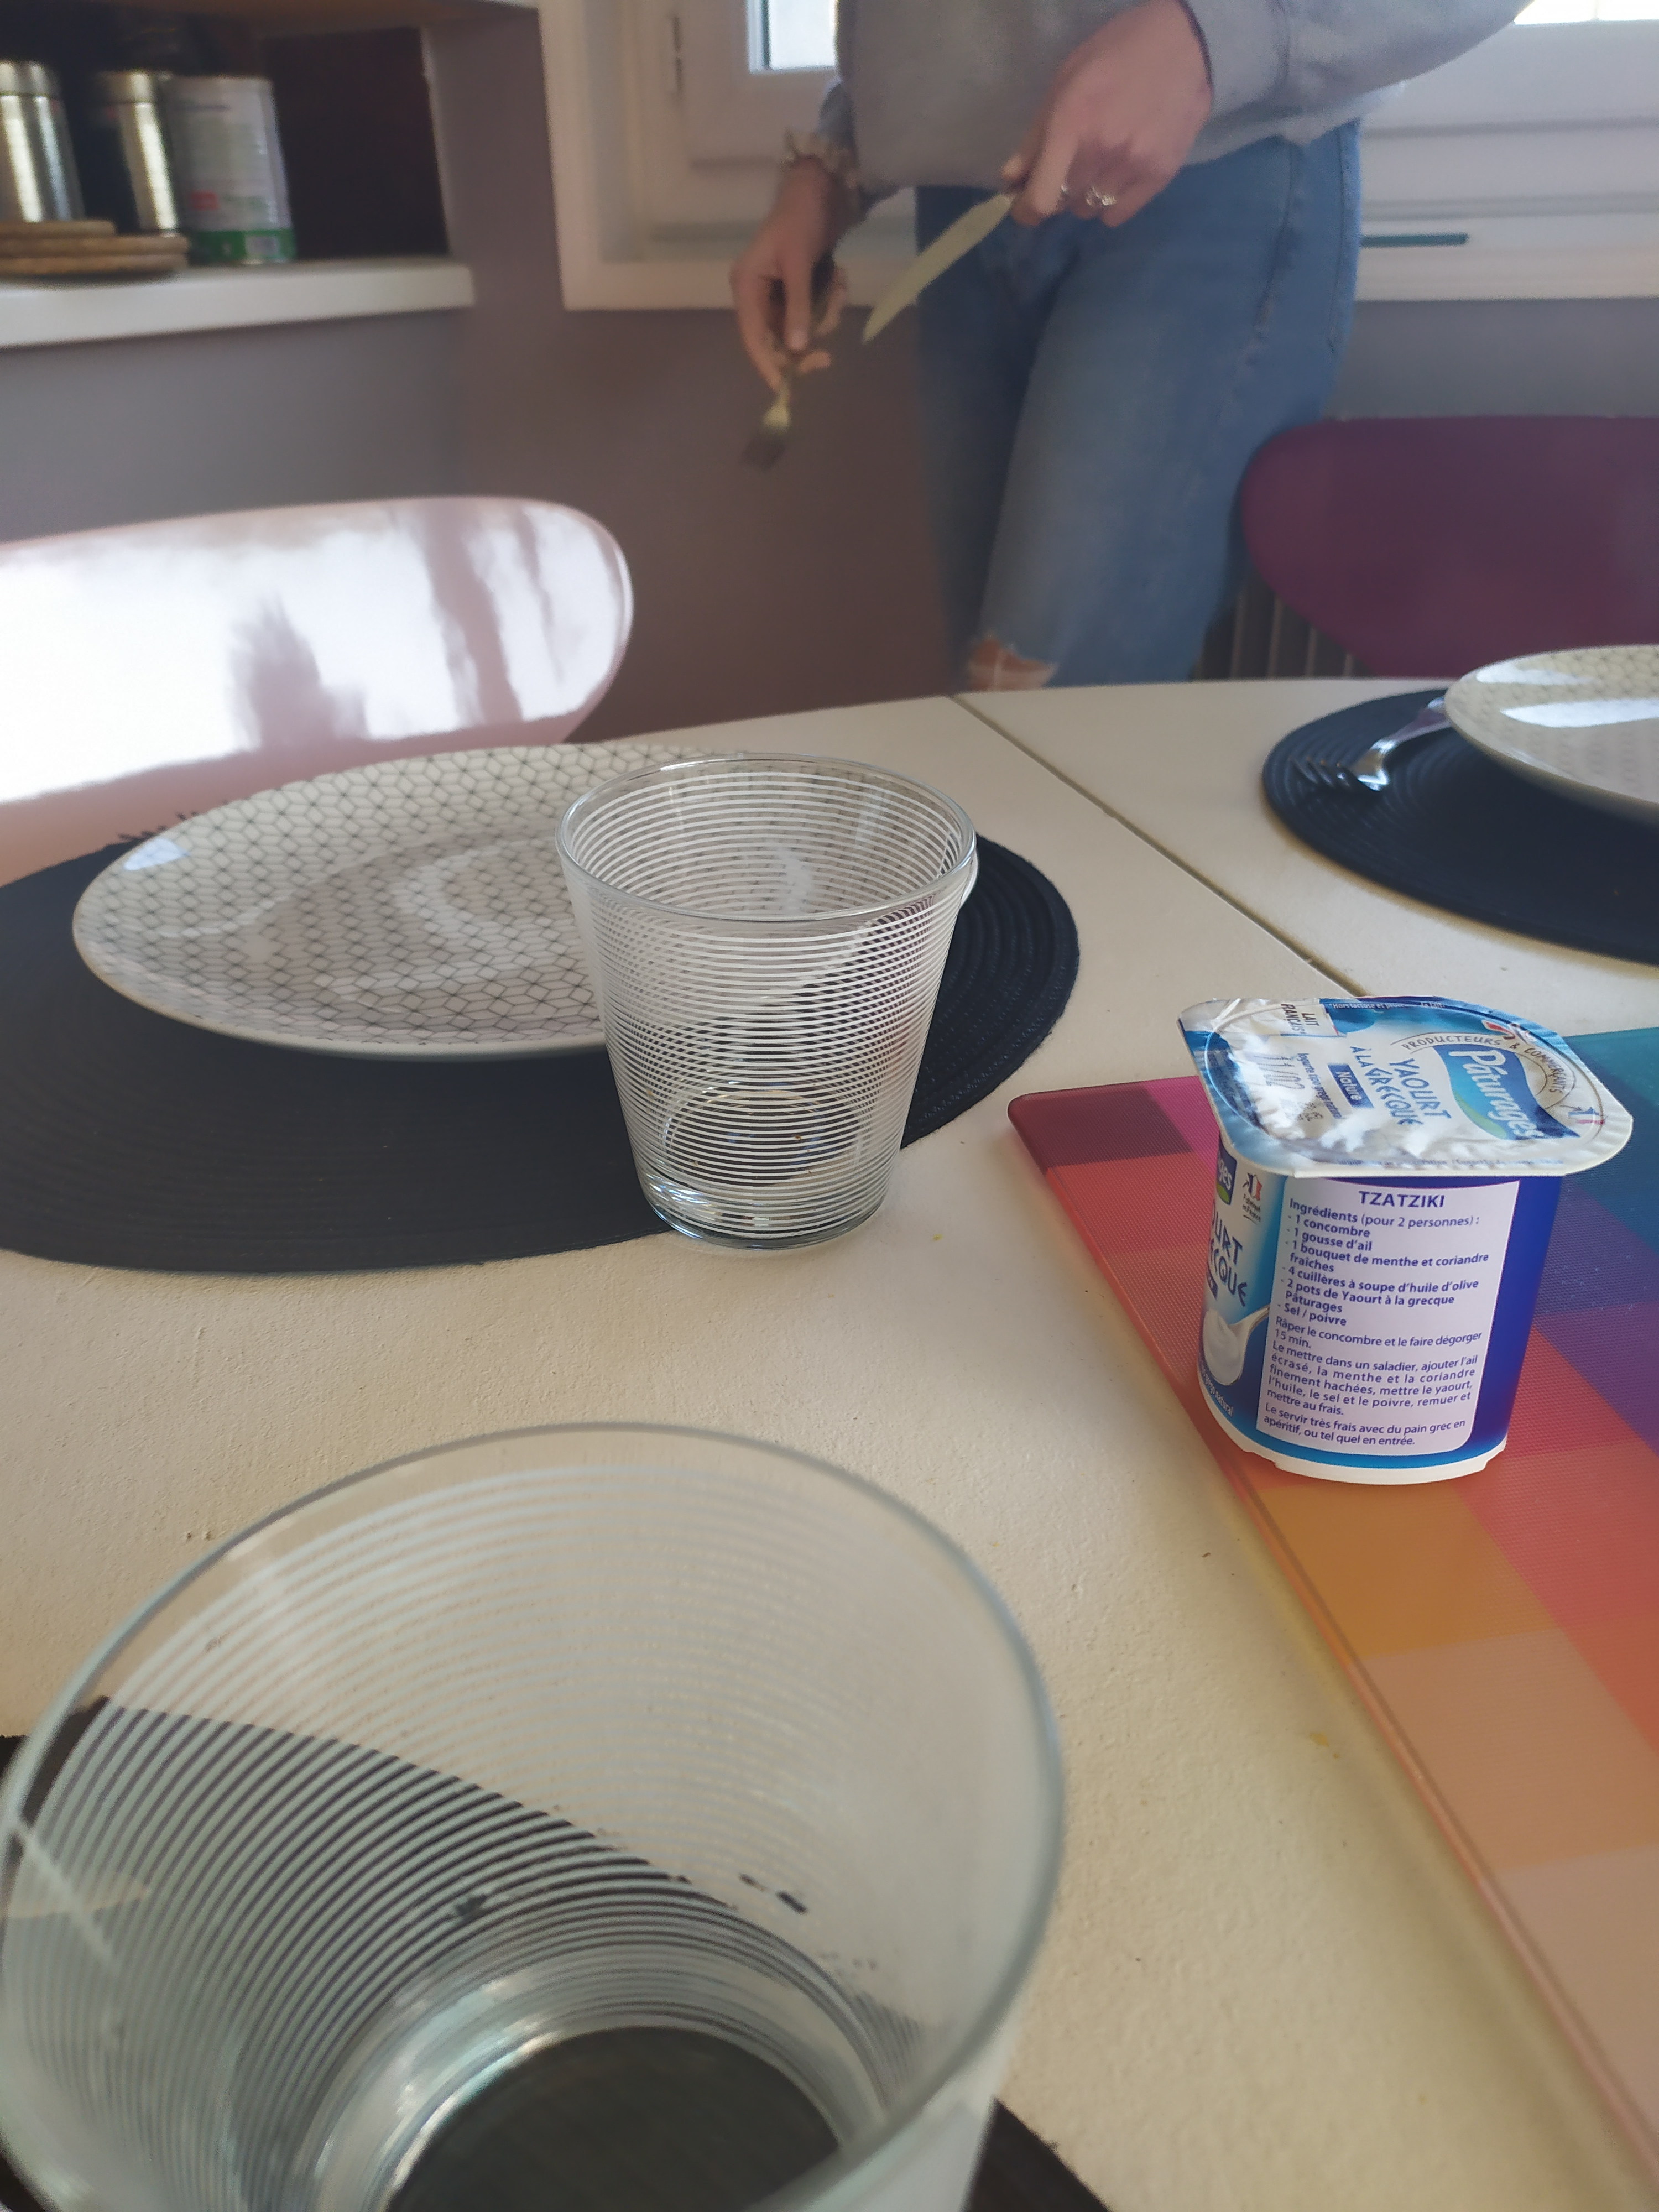yoghurt: (1182, 988, 1631, 1498)
